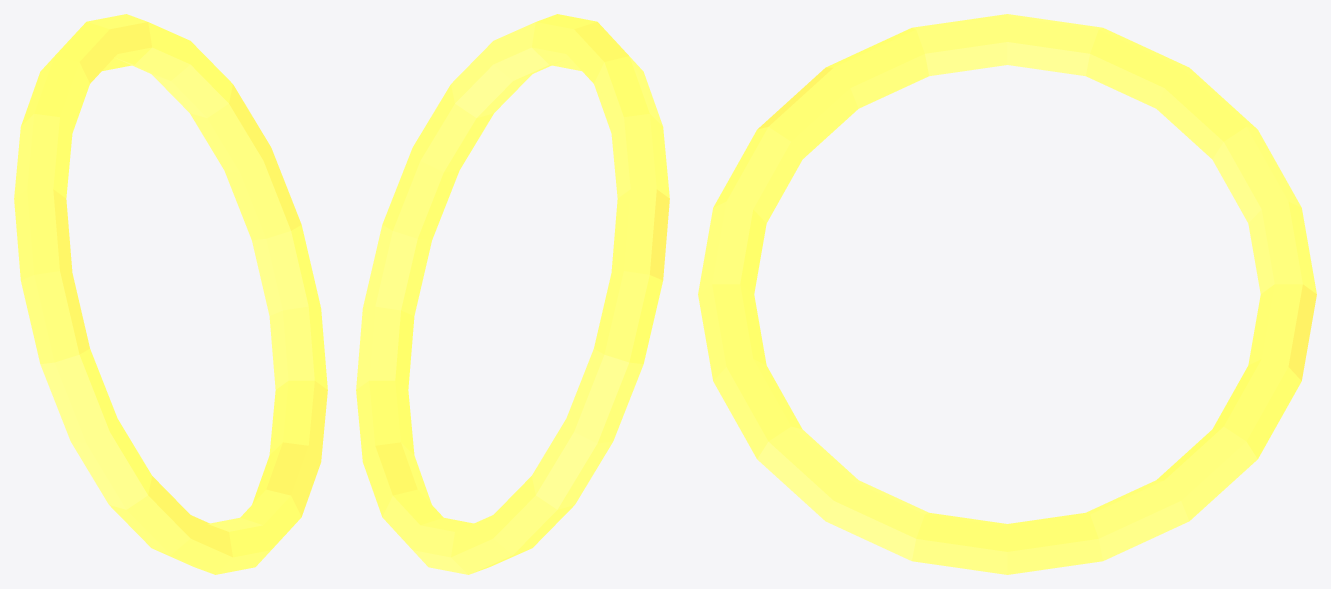
The model's file is SM_Ring.glb.
3 views of the same model, side by side, from view 1: azimuth 30°, elevation 25°; view 2: azimuth 150°, elevation 25°; view 3: azimuth 270°, elevation 25° (orthographic). The views are drawn at different scales.
Parts seen in each view (by area): view 1: SM_Ring; view 2: SM_Ring; view 3: SM_Ring.
Boxes of the visible parts, <box> form: SM_Ring: <box>14,14,327,574</box>; SM_Ring: <box>356,14,669,574</box>; SM_Ring: <box>698,14,1316,574</box>.
Bounding box in the file's own units: 1.21 × 15.4 × 15.4.
Materials: 1 (1 with a texture image).
